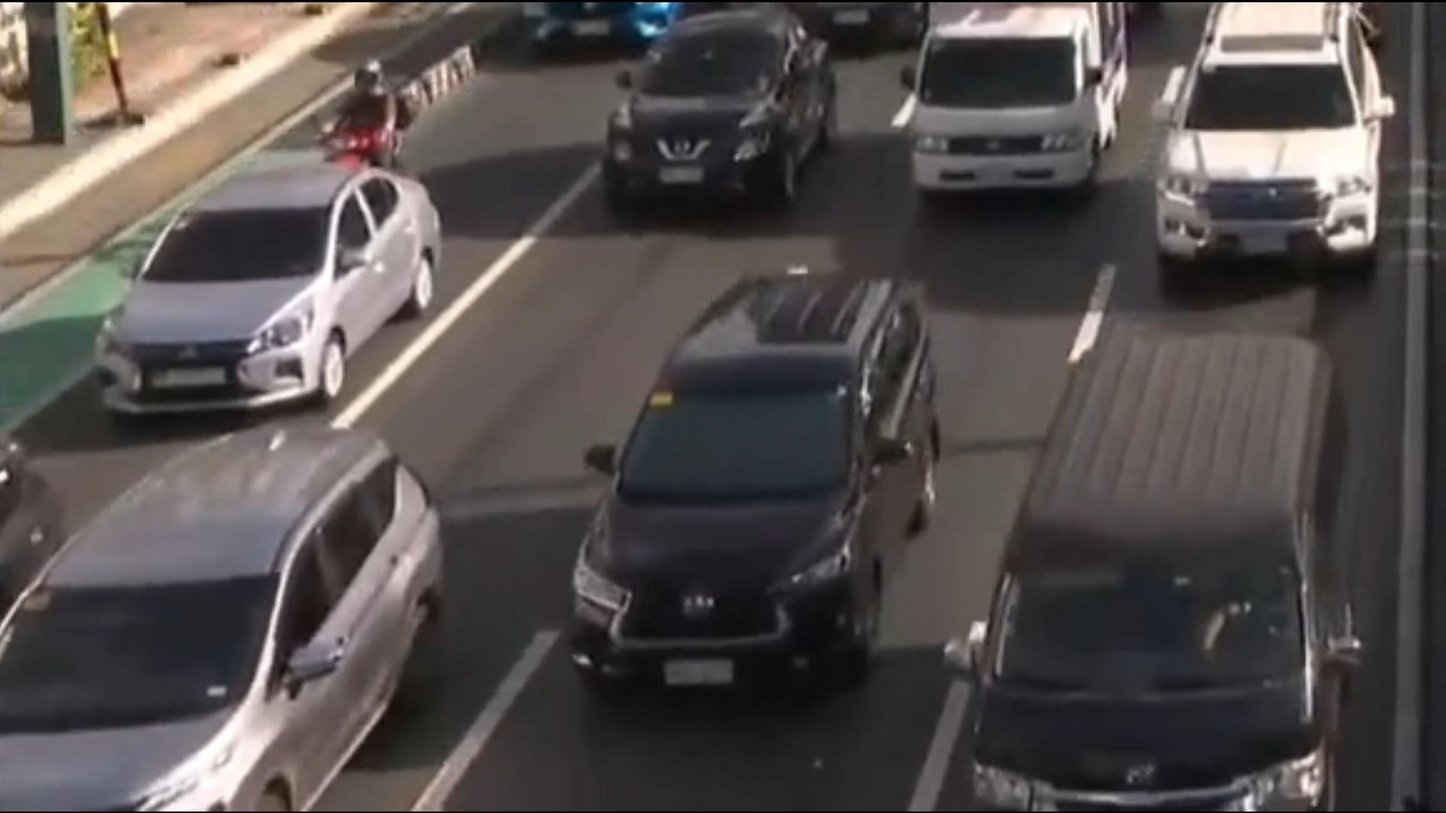Motorcycle: (311, 56, 412, 188)
Multicab: (908, 0, 1137, 209)
SUV: (0, 435, 452, 813), (561, 273, 936, 685), (1158, 0, 1378, 273)
Sedan: (92, 147, 452, 427), (597, 17, 838, 215)
Van: (951, 339, 1354, 813)
